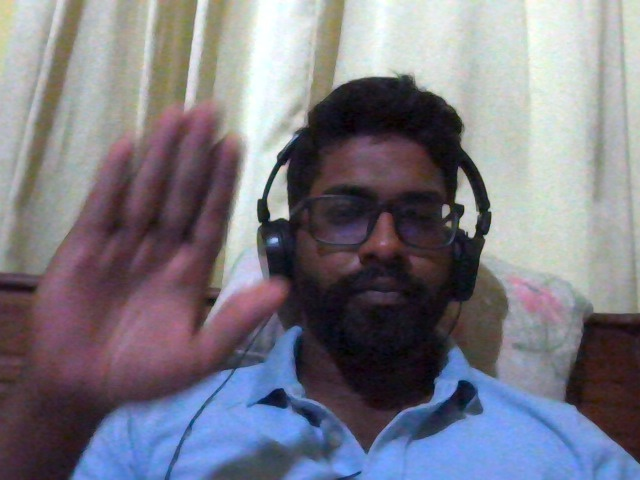Hello: (23, 96, 299, 423)
